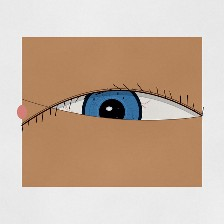pinguecula_lesion: (37, 106, 76, 138)
